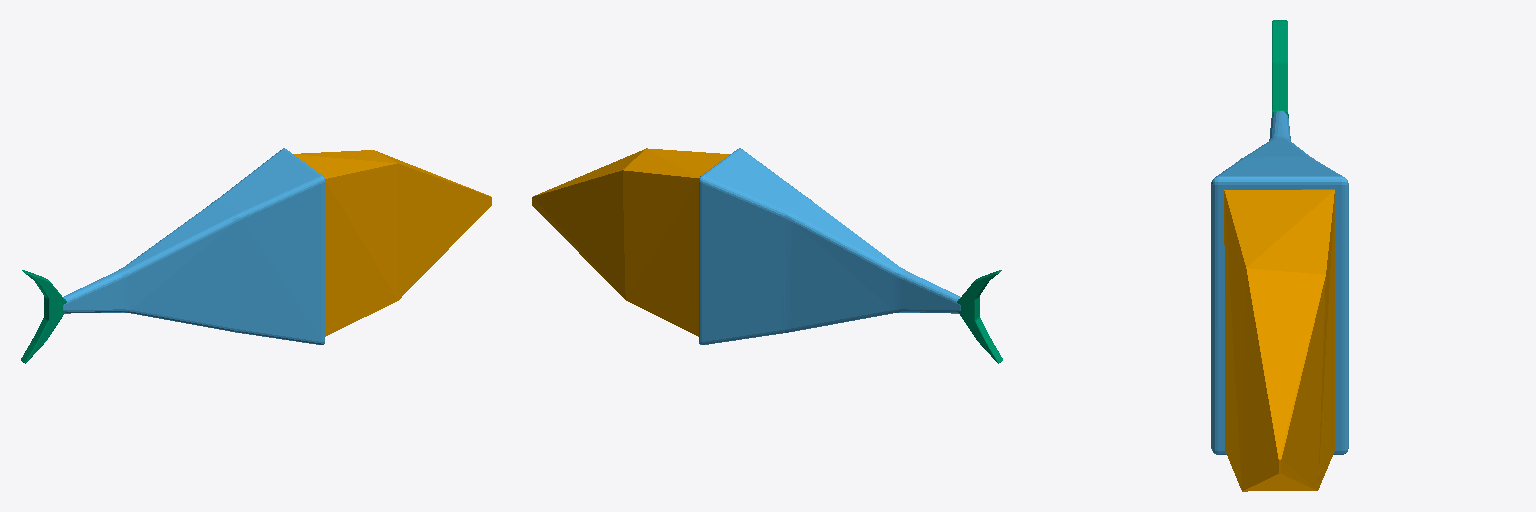
URDF robot description (fish6):
<?xml version="1.0" ?>
<!-- =================================================================================== -->
<!-- |    This document was autogenerated by xacro from Fish1.xacro                    | -->
<!-- |    EDITING THIS FILE BY HAND IS NOT RECOMMENDED                                 | -->
<!-- =================================================================================== -->
<robot name="fish6" xmlns:xacro="http://www.ros.org/wiki/xacro">
  <link name="base_link">
    <visual>
      <origin rpy="0 0 0" xyz="0 0 0"/>
      <geometry>
        <mesh filename="package://uwsim_models/uwsim_fish_urdf/Fish_models/Fish7_1.dae"/>
      </geometry>
    </visual>
  </link>

  <link name="body">
    <visual>
      <origin rpy="0 0 0" xyz="0 0 0"/>
      <geometry>
        <mesh filename="package://uwsim_models/uwsim_fish_urdf/Fish_models/Fish7_2.dae"/>
      </geometry>
    </visual>
  </link>

  <joint name="Slew" type="revolute">
    <parent link="base_link"/>
    <child link="body"/>
    <axis xyz="0 0 1"/>
    <origin rpy="0 0 0" xyz="0 0 0"/>
    <limit effort="1000.0" lower="-0.5" upper="0.5" velocity="1.0"/>
  </joint>

  <link name="tail">
    <visual>
      <origin rpy="0 0 0" xyz="0 0 0"/>
      <geometry>
        <mesh filename="package://uwsim_models/uwsim_fish_urdf/Fish_models/Fish7_Tail.dae"/>
      </geometry>
    </visual>
  </link>

  <joint name="Shoulder" type="revolute">
    <parent link="body"/>
    <child link="tail"/>
    <axis xyz="0 0 1"/>
    <origin rpy="0 0 0" xyz="-2.04 0 0"/>
    <limit effort="1000.0" lower="-0.5" upper="0.5" velocity="1.0"/>
  </joint>

</robot>

--- What the picture shows (computed from the rendered views, not written in the file) ---
The picture shows the robot from 3 angles, left to right: view 1: azimuth 30°, elevation 25°; view 2: azimuth 150°, elevation 25°; view 3: azimuth 270°, elevation 25°; orthographic projection.
Robot: fish6 — 3 links, 2 joints (2 revolute); root link base_link; default pose: every joint at zero.
Visible links, largest first — view 1: body, base_link, tail; view 2: body, base_link, tail; view 3: base_link, body, tail.
Boxes of the visible links, x1,y1,x2,y2 form: body: (63, 148, 324, 344); base_link: (294, 150, 491, 336); tail: (21, 270, 66, 363); body: (699, 148, 960, 344); base_link: (532, 148, 729, 336); tail: (957, 270, 1002, 363); base_link: (1224, 189, 1334, 491); body: (1211, 111, 1348, 454); tail: (1272, 20, 1288, 117).
Bounding box of the posed robot: 3.92 × 0.6072 × 1.35 m (x, y, z).
Meshes: 3 distinct files referenced, 3 mesh visuals loaded (3 Collada DAE).